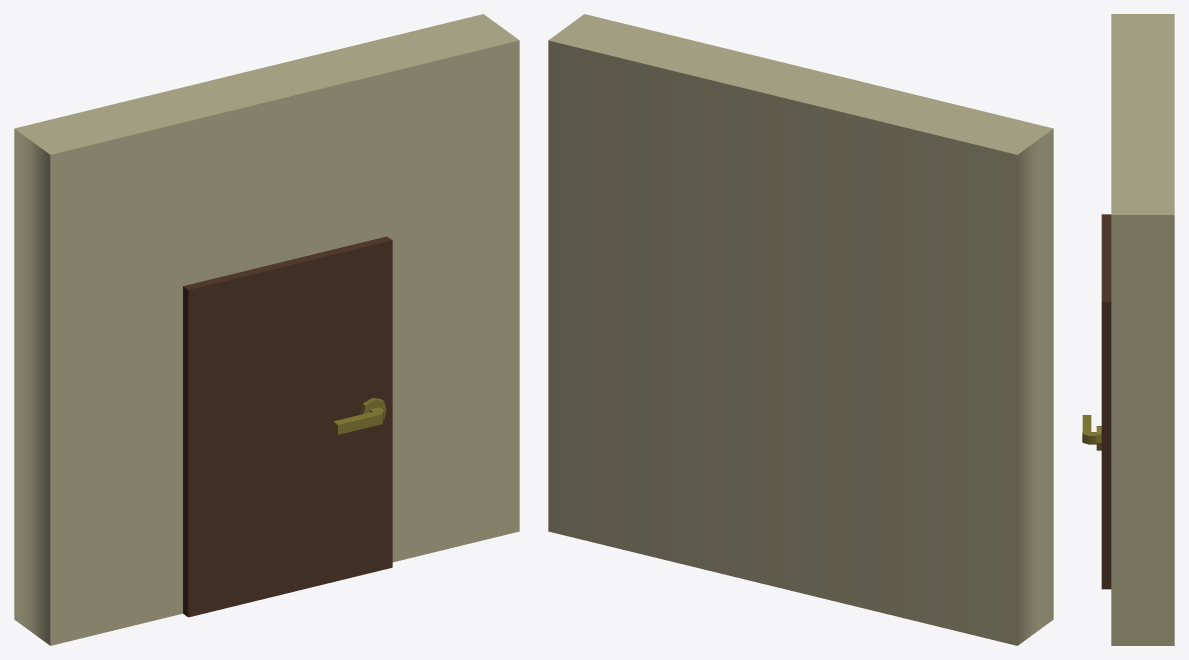
File: Door_Textured_on_a_wall.fbx
The picture shows the model from 3 angles, left to right: view 1: azimuth 30°, elevation 25°; view 2: azimuth 150°, elevation 25°; view 3: azimuth 270°, elevation 25°; orthographic projection. The views are drawn at different scales.
Parts seen in each view (by area): view 1: Wall:Wall, Door; view 2: Wall:Wall; view 3: Wall:Wall, Door.
Boxes of the visible parts, x1=… form: Wall:Wall: x1=14, y1=14, x2=519, y2=645; Door: x1=183, y1=236, x2=392, y2=617; Wall:Wall: x1=548, y1=14, x2=1053, y2=645; Wall:Wall: x1=1111, y1=14, x2=1174, y2=645; Door: x1=1082, y1=214, x2=1111, y2=589.
Bounding box in the file's own units: 150 × 150 × 29.08.
